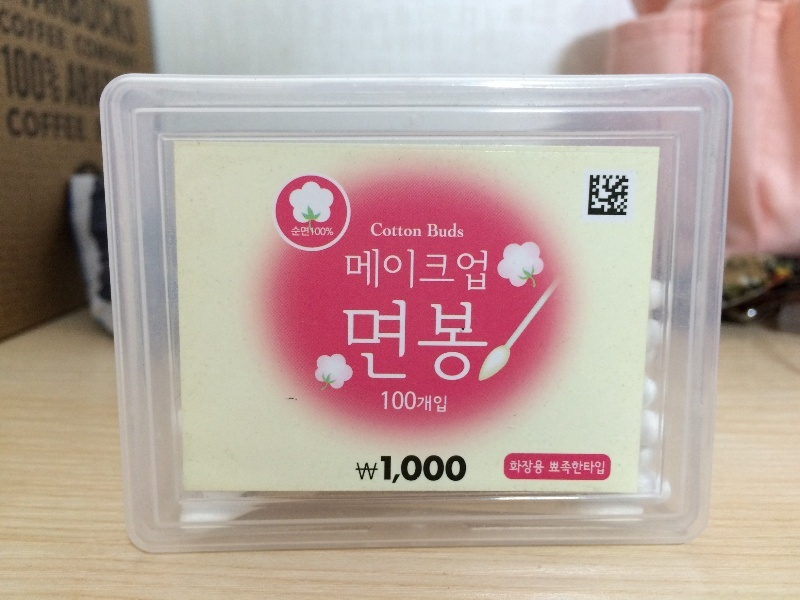text: (353, 301, 368, 381), (369, 301, 384, 381), (385, 301, 400, 381), (401, 301, 416, 381), (417, 301, 432, 381), (433, 301, 448, 381), (449, 301, 464, 381), (465, 301, 480, 381), (49, 40, 65, 106), (1, 40, 16, 106), (17, 40, 32, 106), (33, 40, 48, 106), (342, 301, 352, 381), (481, 301, 491, 381), (353, 247, 368, 291), (369, 247, 384, 291), (385, 247, 400, 291), (401, 247, 416, 291), (417, 247, 432, 291), (433, 247, 448, 291), (449, 247, 464, 291), (465, 247, 480, 291), (33, 2, 48, 45), (49, 2, 64, 45), (65, 2, 80, 45), (81, 2, 96, 45), (97, 2, 112, 45), (113, 2, 128, 45), (81, 63, 96, 106), (97, 63, 112, 106), (17, 9, 32, 50), (33, 9, 48, 50), (49, 9, 64, 50), (2, 9, 16, 50), (81, 35, 96, 71), (97, 35, 112, 71), (113, 35, 128, 71), (17, 106, 32, 141), (33, 106, 48, 141), (49, 106, 64, 141), (65, 106, 80, 141), (68, 63, 80, 106), (353, 455, 368, 484), (369, 455, 384, 484), (385, 455, 400, 484), (401, 455, 416, 484), (417, 455, 432, 484), (433, 455, 448, 484), (449, 455, 464, 484), (22, 2, 32, 45), (5, 106, 16, 141), (344, 247, 352, 291), (81, 106, 90, 141), (401, 392, 417, 410), (385, 392, 400, 410), (481, 247, 487, 291), (129, 2, 135, 45), (418, 396, 432, 412), (433, 396, 447, 412), (385, 223, 400, 237), (401, 223, 416, 237), (513, 461, 528, 475), (529, 461, 544, 475), (370, 223, 384, 237), (433, 224, 448, 237), (449, 224, 464, 237), (561, 462, 576, 475), (577, 462, 592, 475), (75, 35, 80, 71), (113, 63, 117, 106), (593, 462, 605, 475), (129, 35, 133, 71), (292, 226, 304, 237), (321, 228, 334, 237), (551, 462, 560, 475), (311, 228, 320, 237), (427, 224, 432, 237), (465, 455, 467, 484), (417, 223, 421, 237), (305, 226, 309, 237), (382, 392, 384, 410), (511, 461, 512, 475)
